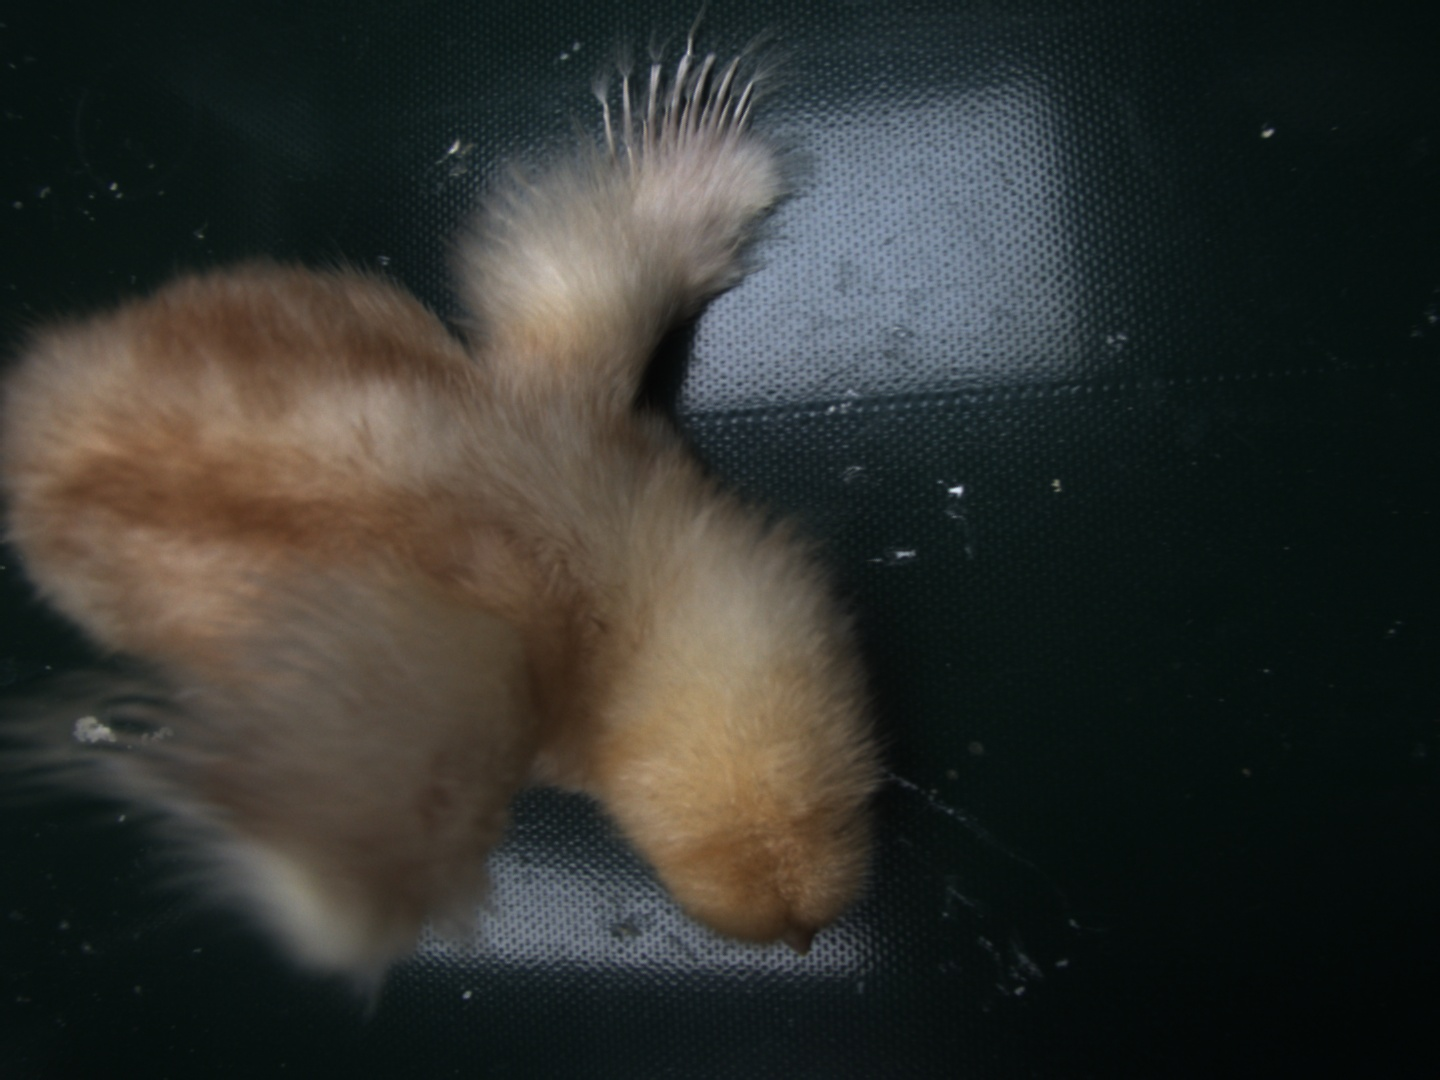female: (592, 39, 765, 167)
